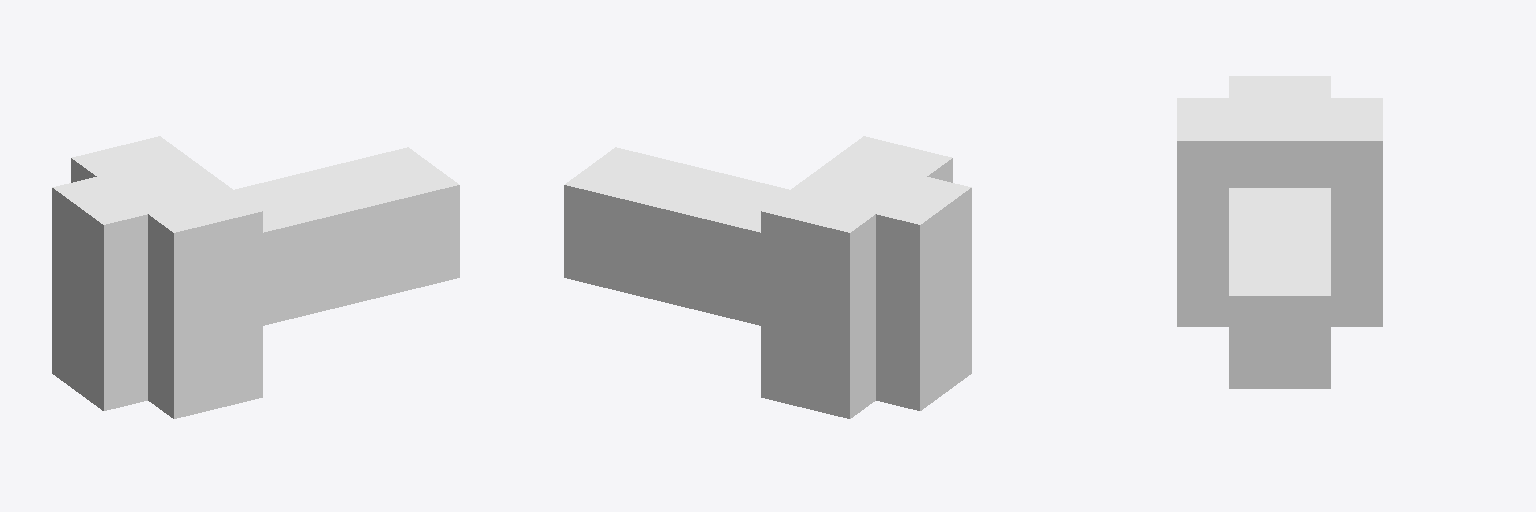
File: car_concessionaire_level.obj
The picture shows the model from 3 angles: view 1: azimuth 30°, elevation 25°; view 2: azimuth 150°, elevation 25°; view 3: azimuth 270°, elevation 25°; orthographic projection.
Visible parts, largest first — view 1: object 1; view 2: object 1; view 3: object 1.
Part boxes in pixels (left/top/right/bottom): object 1: left=52, top=136, right=459, bottom=418; object 1: left=564, top=136, right=971, bottom=418; object 1: left=1177, top=76, right=1382, bottom=388.
Size of the model in its own units: 0.8 by 0.4 by 0.4.